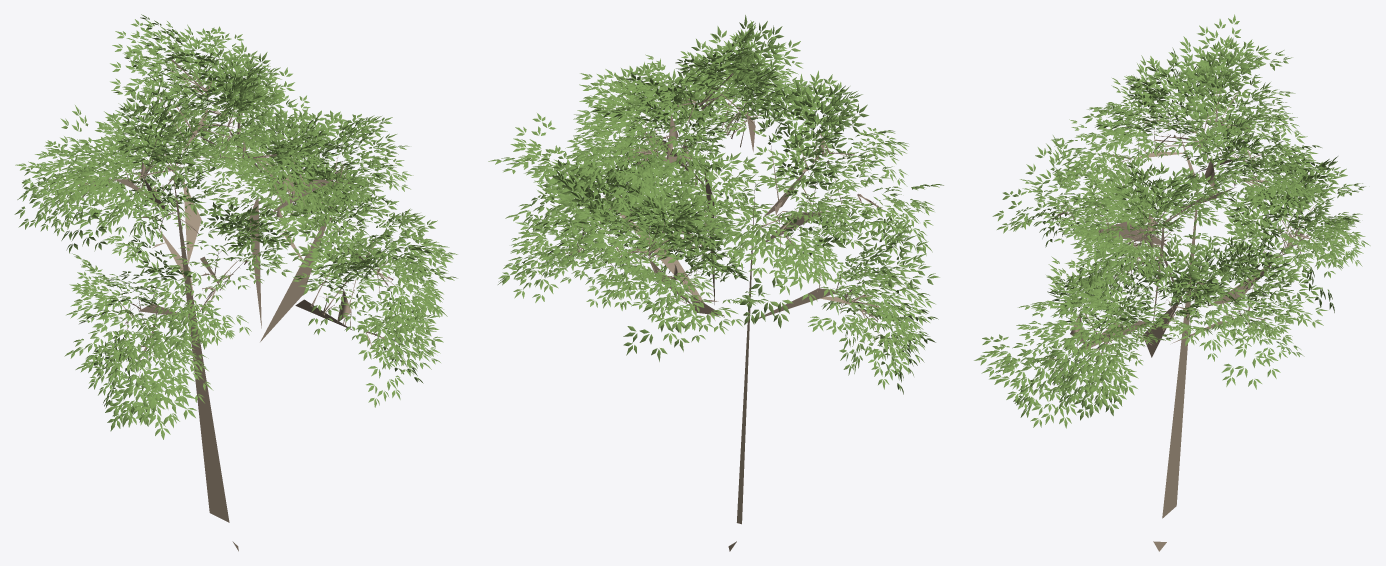
3 renders of one model, left to right at view 1: azimuth 30°, elevation 25°; view 2: azimuth 150°, elevation 25°; view 3: azimuth 270°, elevation 25°, orthographic. The views are drawn at different scales.
Parts seen in each view (by area): view 1: V20_LOD1_Foliage, V20_LOD1_Body; view 2: V20_LOD1_Foliage, V20_LOD1_Body; view 3: V20_LOD1_Foliage, V20_LOD1_Body.
Boxes of the visible parts, x1=… form: V20_LOD1_Foliage: x1=14, y1=14, x2=457, y2=439; V20_LOD1_Body: x1=79, y1=59, x2=395, y2=551; V20_LOD1_Foliage: x1=488, y1=15, x2=943, y2=394; V20_LOD1_Body: x1=562, y1=73, x2=882, y2=551; V20_LOD1_Foliage: x1=974, y1=14, x2=1370, y2=428; V20_LOD1_Body: x1=1048, y1=72, x2=1315, y2=551.
Size of the model in its own units: 9 by 12.34 by 8.74.
